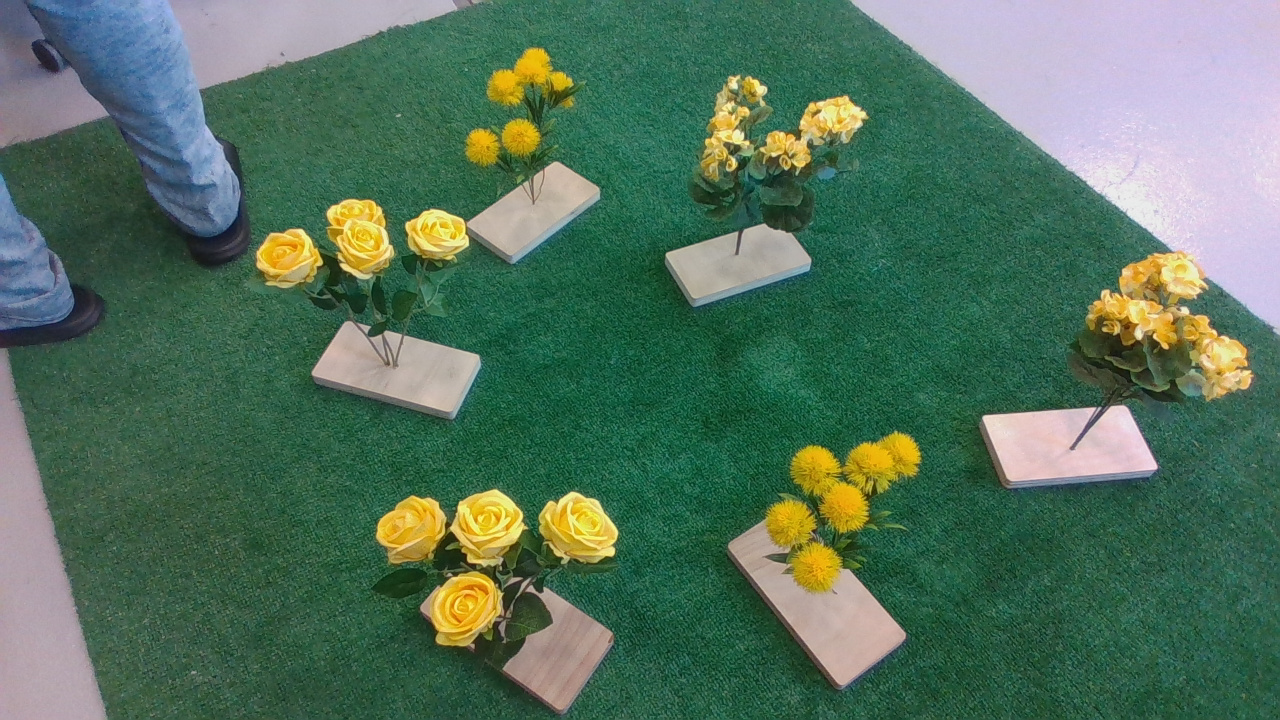dandelion: (760, 429, 940, 599), (459, 52, 594, 179)
geranium: (1064, 252, 1268, 420), (689, 75, 883, 238)
rose: (370, 479, 640, 678), (253, 198, 490, 336)
